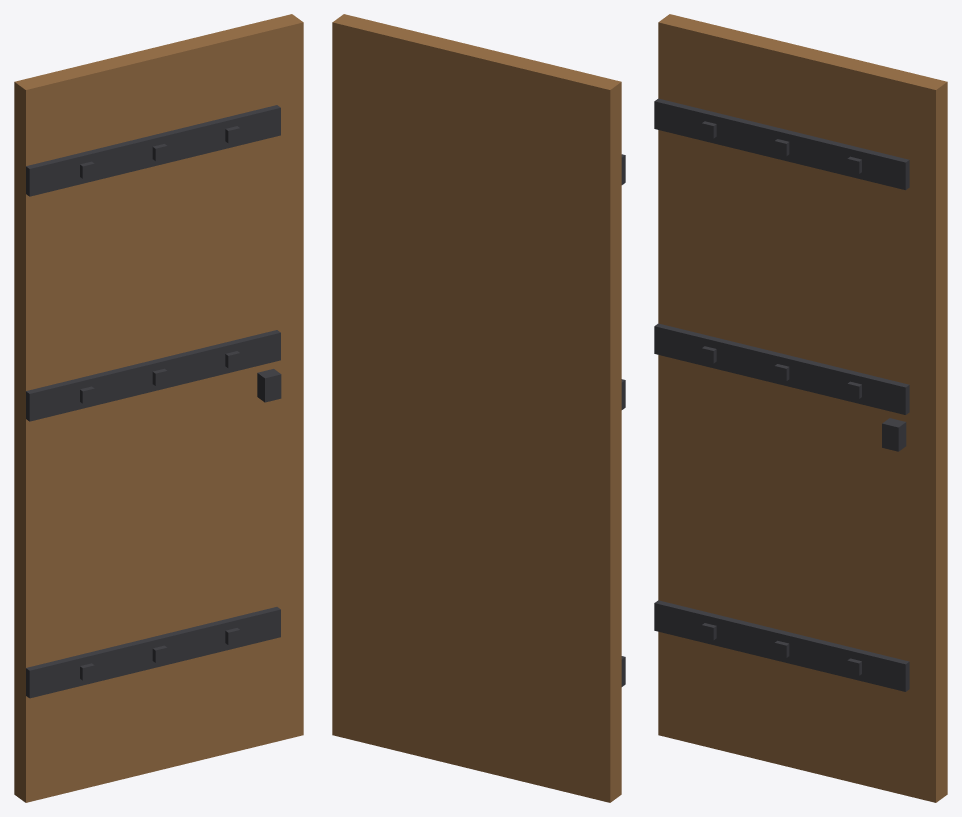
Rendered from Door.fbx.
The picture shows the model from 3 angles, left to right: view 1: azimuth 30°, elevation 25°; view 2: azimuth 150°, elevation 25°; view 3: azimuth 330°, elevation 25°; orthographic projection.
Parts seen in each view (by area): view 1: Kit_Door; view 2: Kit_Door; view 3: Kit_Door.
Part boxes in pixels (x1,y1,x2,y2): Kit_Door: [14, 14, 303, 802]; Kit_Door: [332, 14, 625, 802]; Kit_Door: [654, 14, 947, 802].
Size of the model in its own units: 0.84 by 2.06 by 0.1.
